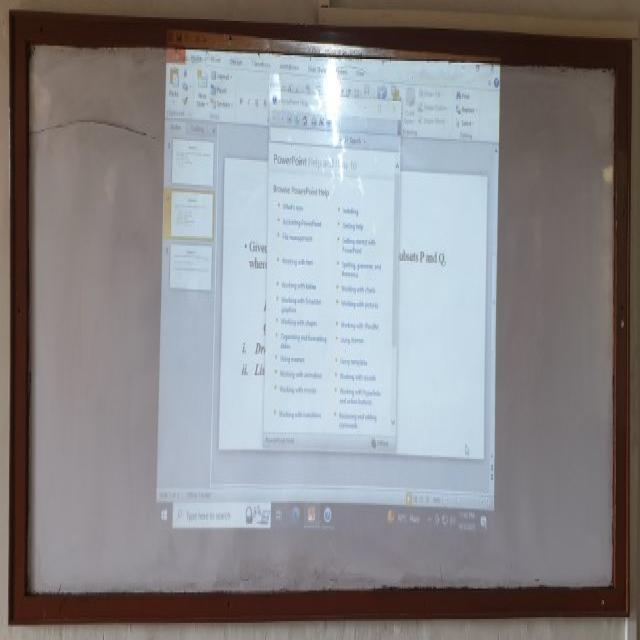Slide: (156, 33, 500, 546)
White-board: (18, 21, 625, 612)
